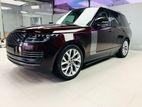car: (6, 6, 131, 79)
